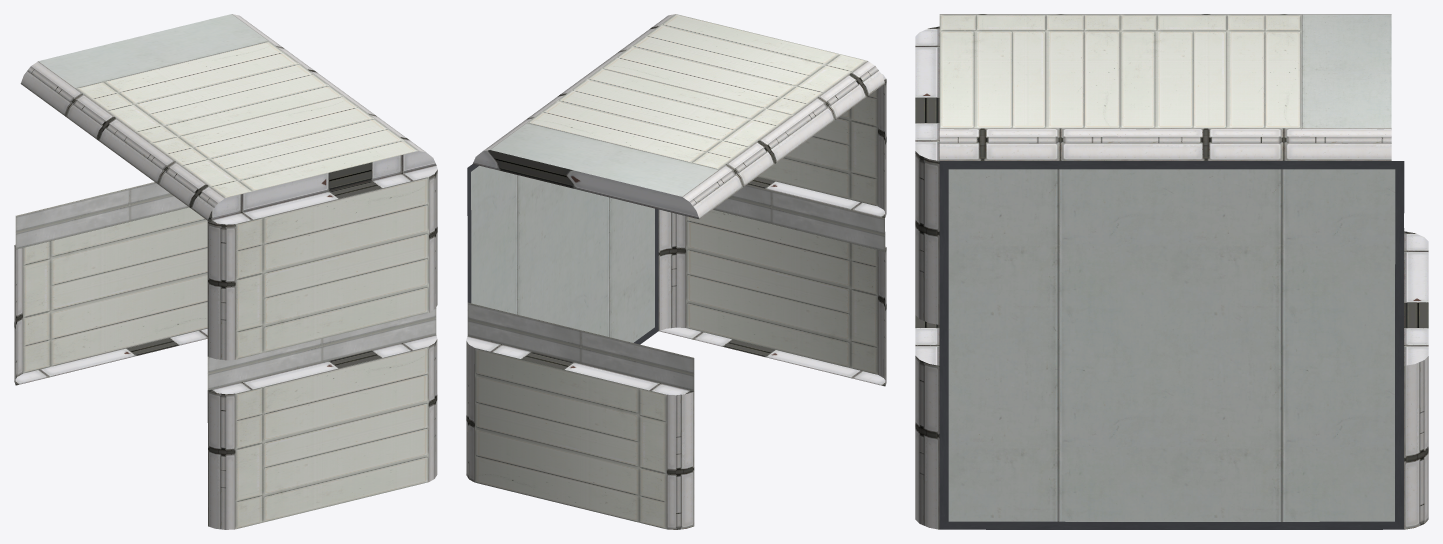
Rendered from STA20_barcapB01.FBX.
The picture shows the model from 3 angles, left to right: view 1: azimuth 30°, elevation 25°; view 2: azimuth 150°, elevation 25°; view 3: azimuth 270°, elevation 25°; orthographic projection. The views are drawn at different scales.
Visible parts, largest first — view 1: STA20_barcapB01; view 2: STA20_barcapB01; view 3: STA20_barcapB01.
Boxes of the visible parts, x1=… form: STA20_barcapB01: x1=14, y1=14, x2=437, y2=529; STA20_barcapB01: x1=466, y1=14, x2=886, y2=529; STA20_barcapB01: x1=915, y1=14, x2=1428, y2=529.
Size of the model in its own units: 7.14 by 9.66 by 11.5.
